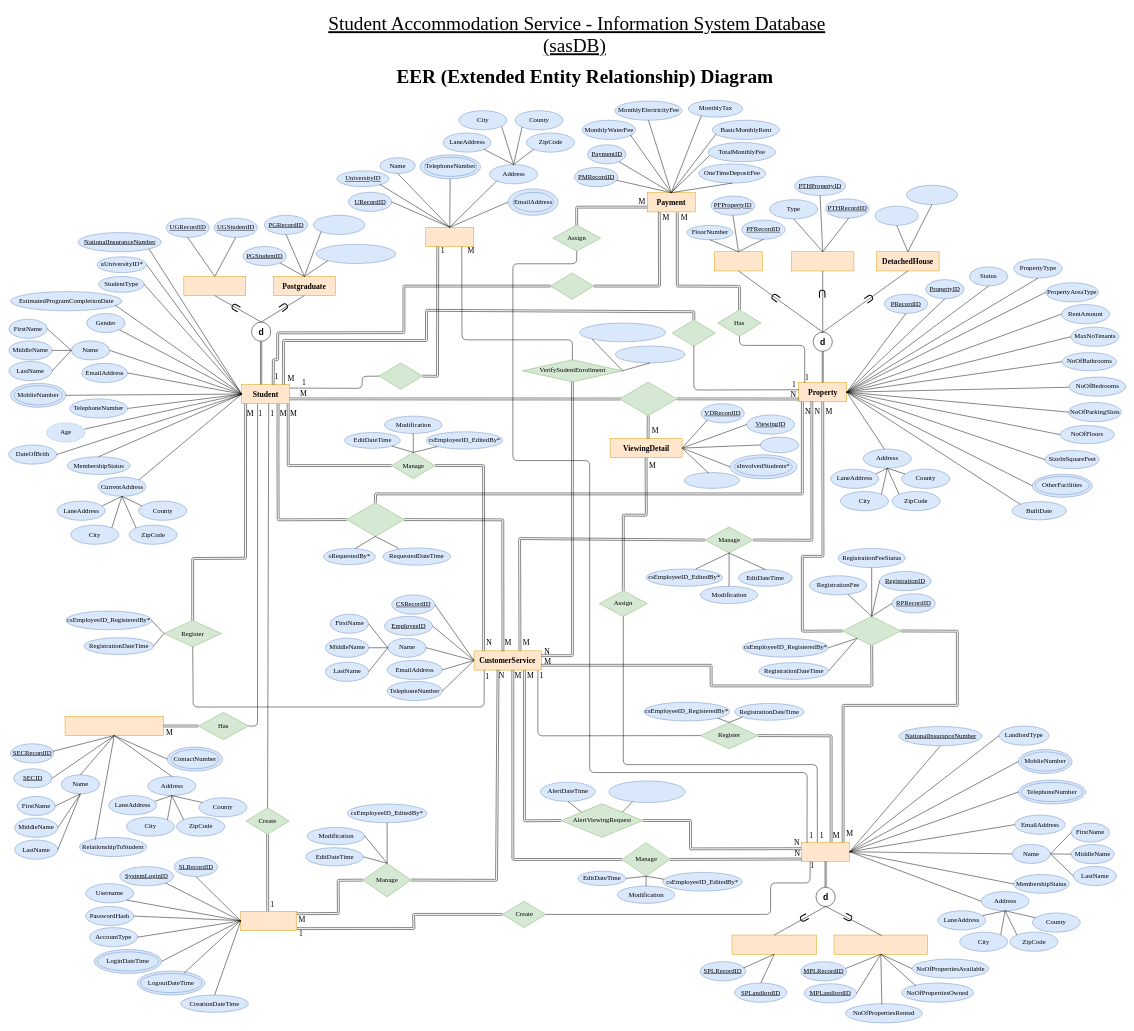
This 1134x1031 diagram has some shape labels left out. Here are the shapes that lost their labels. From the top down, the box of each, then its label:
(906, 185, 957, 204): PDHPropertyID
(313, 215, 365, 234): EmployerName
(875, 206, 918, 225): PDHRecordID
(316, 244, 396, 264): EmployerContactNumber
(425, 227, 474, 246): University
(714, 251, 762, 271): Flat
(791, 251, 854, 271): TerracedHouse
(183, 276, 246, 296): Undergraduate
(550, 272, 594, 299): Pay
(579, 323, 666, 342): csEmployeeID_VerifiedBy*
(672, 319, 715, 346): Rent
(615, 346, 685, 363): VerificationDateTime
(379, 362, 422, 389): Enrolled
(619, 382, 677, 416): ViewingProperty
(760, 437, 799, 453): Date
(684, 472, 739, 488): lAssignedBy*
(346, 502, 404, 536): RequestViewing
(842, 616, 901, 646): RegisterProperty
(65, 716, 163, 736): StudentEmergencyContact
(608, 780, 685, 803): csEmployeeID_AlerterBy*
(801, 842, 850, 861): Landlord
(240, 911, 297, 930): SystemLogin
(732, 935, 816, 954): SinglePropertyLandlord
(834, 935, 928, 954): MultiplePropertyLandlord
